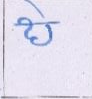e_matra: (23, 0, 48, 20)
